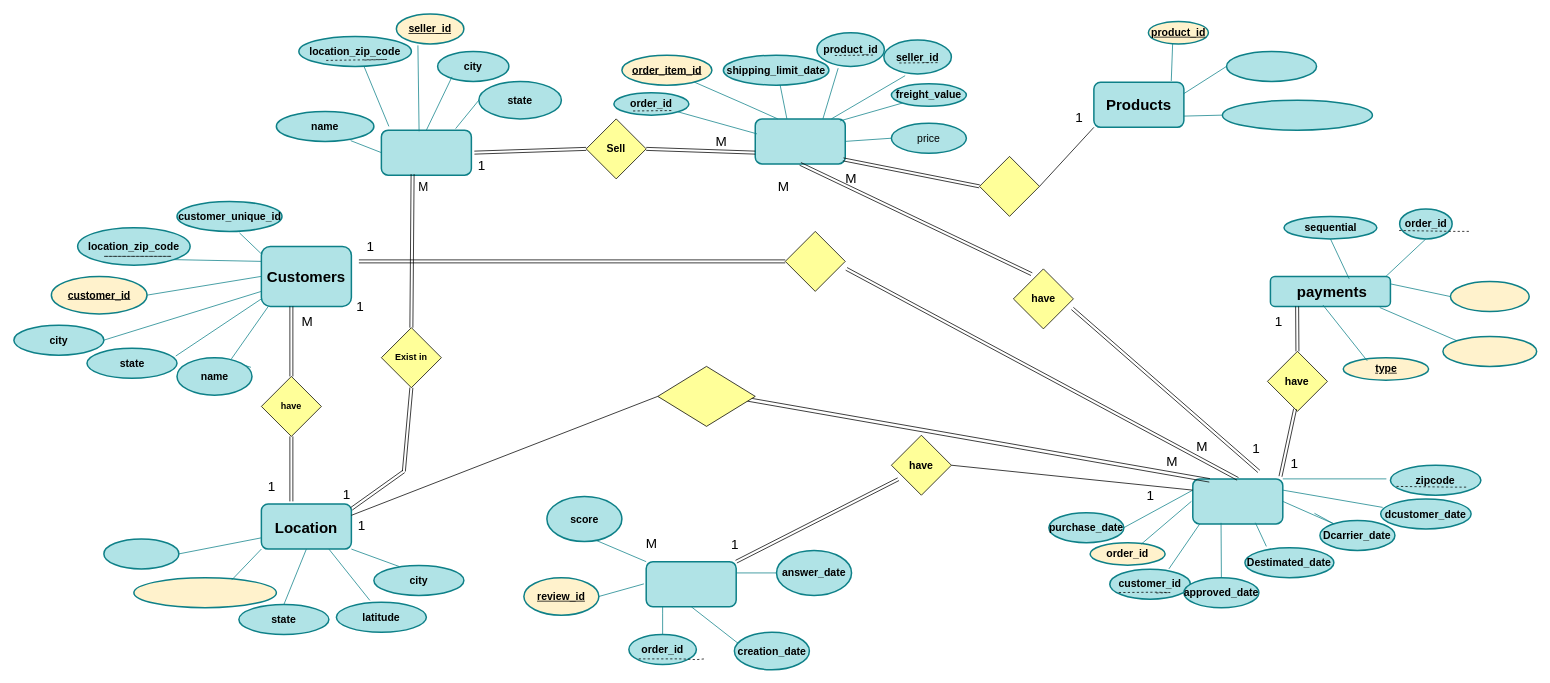
This 1550x683 diagram has some shape labels left out. The shapes that lost their labels are listed below. From the top down, each one's box as (x1, y1, x2, y2) in pixels, then its label:
(1225, 50, 1317, 82): photos_qty
(1221, 99, 1373, 130): category_name
(380, 129, 472, 176): Sellers
(754, 118, 846, 164): order items
(979, 156, 1040, 216): Are
(784, 231, 845, 291): Order
(1449, 280, 1530, 312): value
(1442, 335, 1537, 367): amounts
(657, 366, 755, 426): are deliverd to
(1192, 478, 1283, 524): Orders
(103, 538, 179, 569): longitude
(133, 577, 277, 608): zip_code
(645, 561, 737, 607): Reviews
